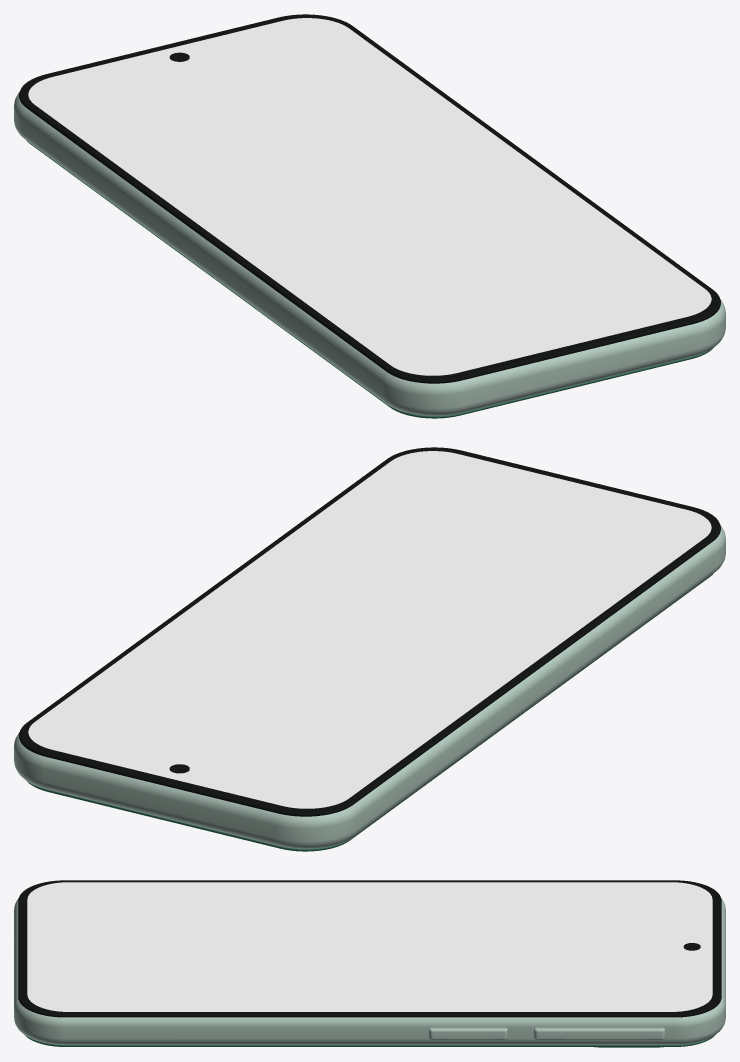
The model's file is phone.glb.
3 views of the same model, one above another, from view 1: azimuth 30°, elevation 25°; view 2: azimuth 150°, elevation 25°; view 3: azimuth 270°, elevation 25° (orthographic). The views are drawn at different scales.
Parts seen in each view (by area): view 1: Screen, Frame, Bezel, Back; view 2: Screen, Frame, Bezel, Back; view 3: Screen, Frame, Bezel, Volume, Back, Power.
Part boxes in pixels (x1,y1,x2,y2): Screen: [28, 18, 711, 375]; Frame: [14, 92, 725, 415]; Bezel: [19, 14, 720, 383]; Back: [26, 140, 713, 418]; Screen: [28, 451, 711, 808]; Frame: [14, 525, 725, 848]; Bezel: [19, 447, 720, 816]; Back: [26, 573, 713, 851]; Screen: [27, 882, 712, 1011]; Frame: [14, 898, 725, 1044]; Bezel: [18, 880, 721, 1017]; Volume: [534, 1027, 665, 1039]; Back: [25, 1035, 714, 1046]; Power: [429, 1027, 507, 1039].
Size of the model in its own units: 1.02 by 0.1575 by 2.17.
